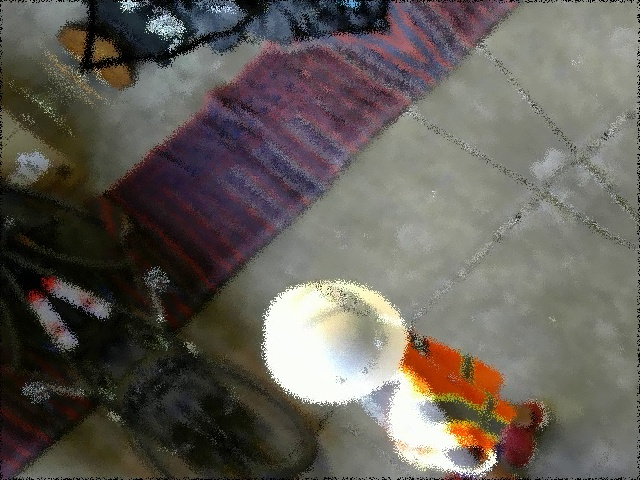eight: (308, 269, 371, 322)
